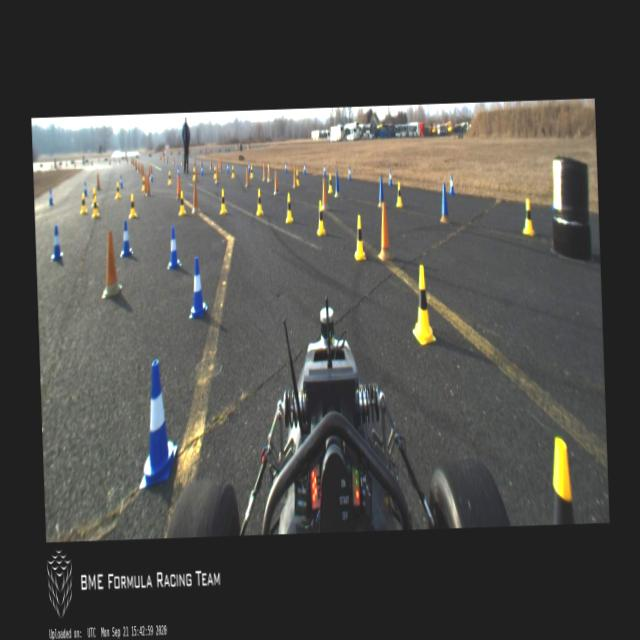blue_cone: (134, 356, 179, 488), (186, 254, 208, 320), (164, 224, 182, 268), (118, 218, 133, 258), (49, 220, 62, 262), (448, 173, 455, 196), (47, 186, 54, 205), (118, 173, 124, 189), (387, 168, 392, 187), (148, 169, 154, 183), (83, 180, 88, 196), (322, 163, 327, 177), (348, 164, 352, 180), (302, 160, 306, 176), (225, 161, 229, 174), (284, 160, 288, 173), (176, 166, 180, 177), (247, 160, 250, 173), (200, 164, 203, 176)
yellow_cone: (548, 437, 578, 522), (411, 263, 436, 343), (352, 212, 366, 260), (521, 198, 535, 235), (315, 198, 326, 236), (126, 191, 138, 219), (284, 190, 294, 223), (254, 187, 264, 216), (90, 194, 100, 219), (218, 187, 227, 213), (394, 180, 402, 206), (79, 191, 88, 214), (178, 190, 185, 218), (90, 186, 98, 206), (115, 178, 121, 200), (328, 175, 334, 195), (230, 163, 236, 180), (294, 168, 300, 185), (140, 175, 146, 191), (212, 164, 218, 180), (167, 170, 172, 186), (192, 166, 196, 182), (250, 164, 253, 178)
